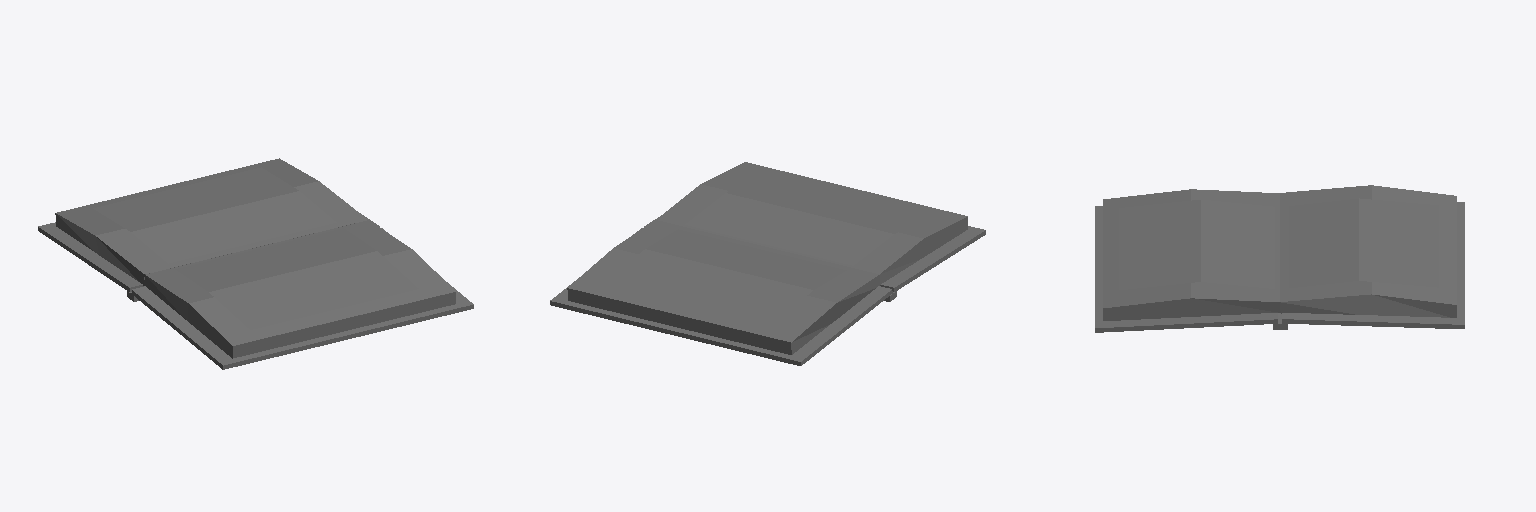
Rendered from Book_OBJ.obj.
The picture shows the model from 3 angles: view 1: azimuth 30°, elevation 25°; view 2: azimuth 150°, elevation 25°; view 3: azimuth 270°, elevation 25°; orthographic projection.
Visible parts, largest first — view 1: book:Mesh; view 2: book:Mesh; view 3: book:Mesh.
Boxes of the visible parts, <box> form: book:Mesh: <box>38,158,473,369</box>; book:Mesh: <box>550,162,985,365</box>; book:Mesh: <box>1095,185,1464,332</box>.
Size of the model in its own units: 1.85 by 0.222 by 2.36.